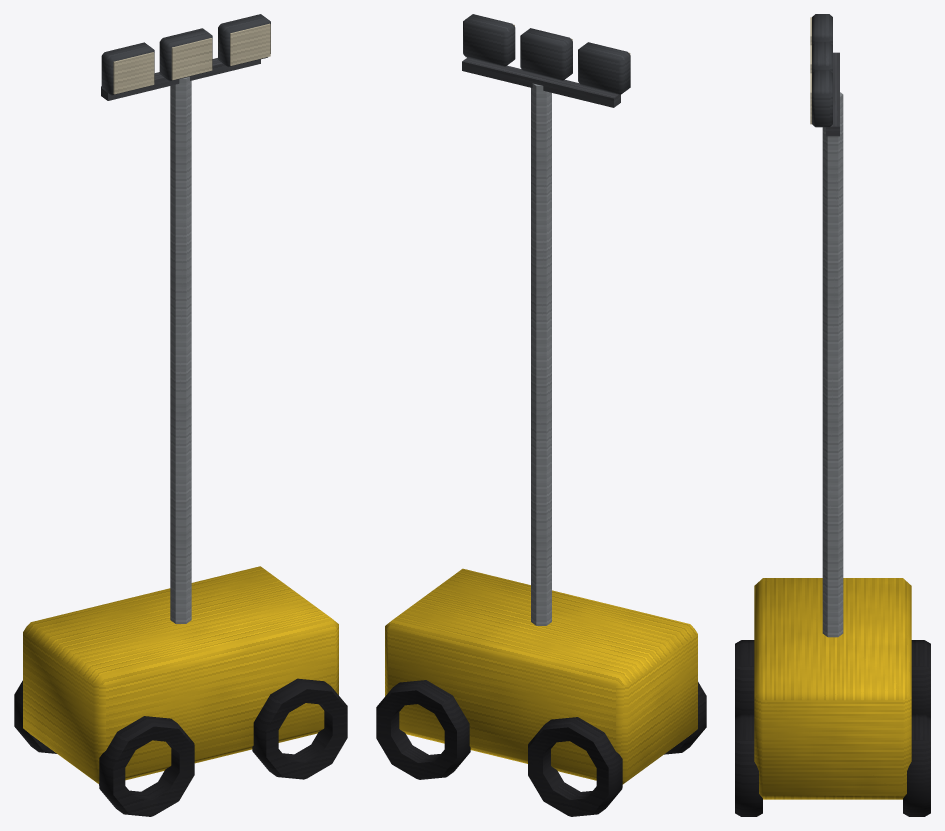
The model's file is torre_iluminacao.glb.
3 renders of one model, left to right at view 1: azimuth 30°, elevation 25°; view 2: azimuth 150°, elevation 25°; view 3: azimuth 270°, elevation 25°, orthographic.
Parts seen in each view (by area): view 1: Inteiro; view 2: Inteiro; view 3: Inteiro.
Boxes of the visible parts, box(x1,y1,x2,y2) form: Inteiro: box(14, 14, 347, 816); Inteiro: box(376, 14, 706, 816); Inteiro: box(735, 14, 930, 816).
Size of the model in its own units: 1.6 by 4.57 by 1.12.
Materials: 1 (1 with a texture image).
